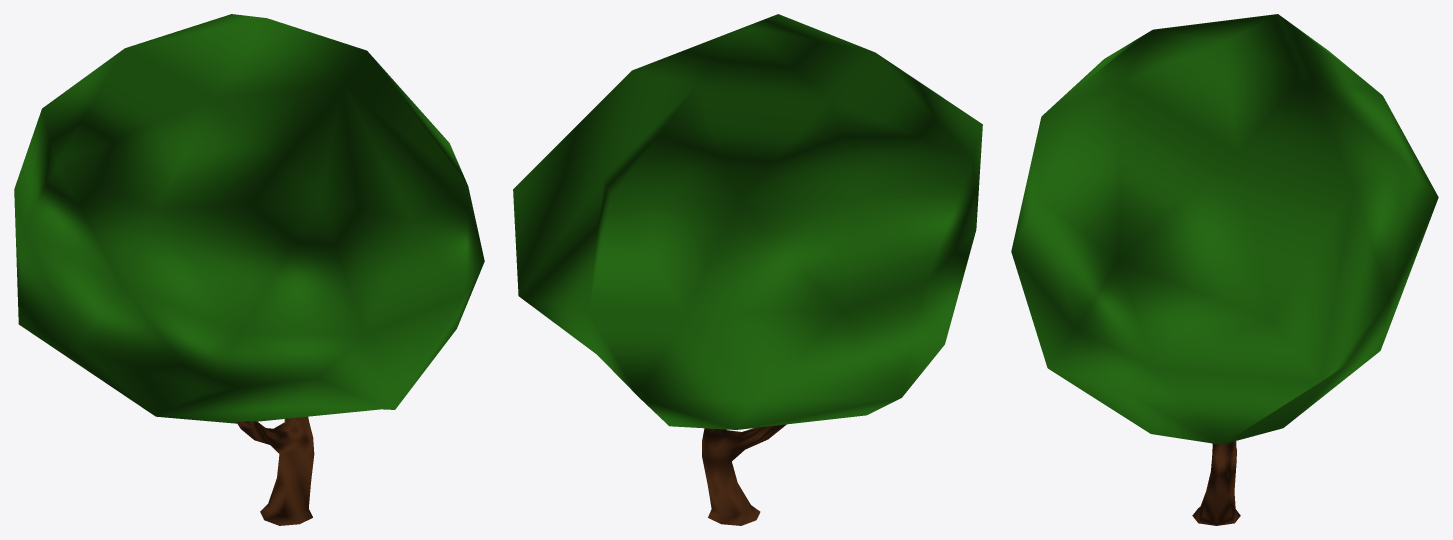
Rendered from Bush_1.obj.
3 renders of one model, left to right at view 1: azimuth 30°, elevation 25°; view 2: azimuth 150°, elevation 25°; view 3: azimuth 270°, elevation 25°, orthographic. The views are drawn at different scales.
Parts seen in each view (by area): view 1: Bush_1; view 2: Bush_1; view 3: Bush_1.
Boxes of the visible parts, box(x1,y1,x2,y2) form: Bush_1: box(14, 14, 484, 525); Bush_1: box(513, 14, 982, 525); Bush_1: box(1011, 14, 1438, 525).
Bounding box in the file's own units: 193 × 214 × 178.
